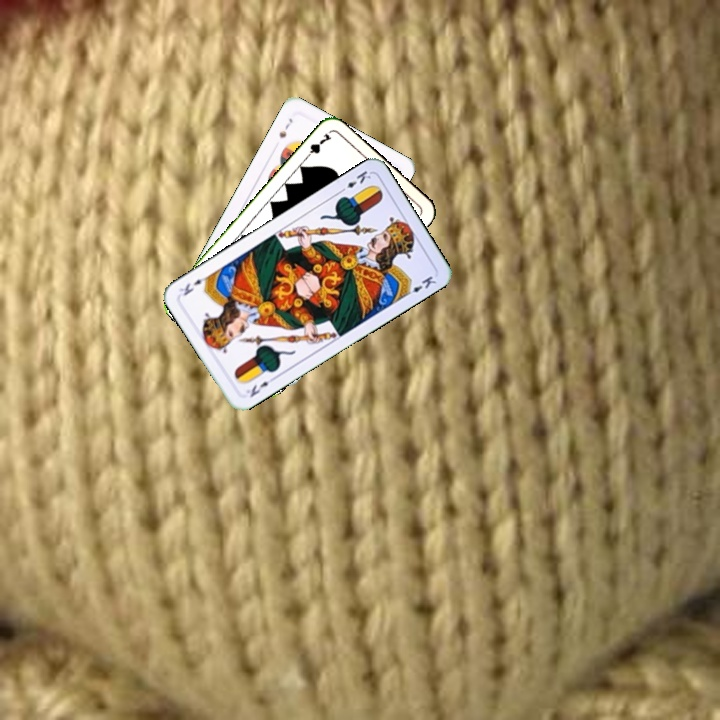EK: (335, 166, 374, 196), (242, 372, 278, 400)
G7: (300, 129, 334, 163)
S7: (275, 114, 295, 140)
